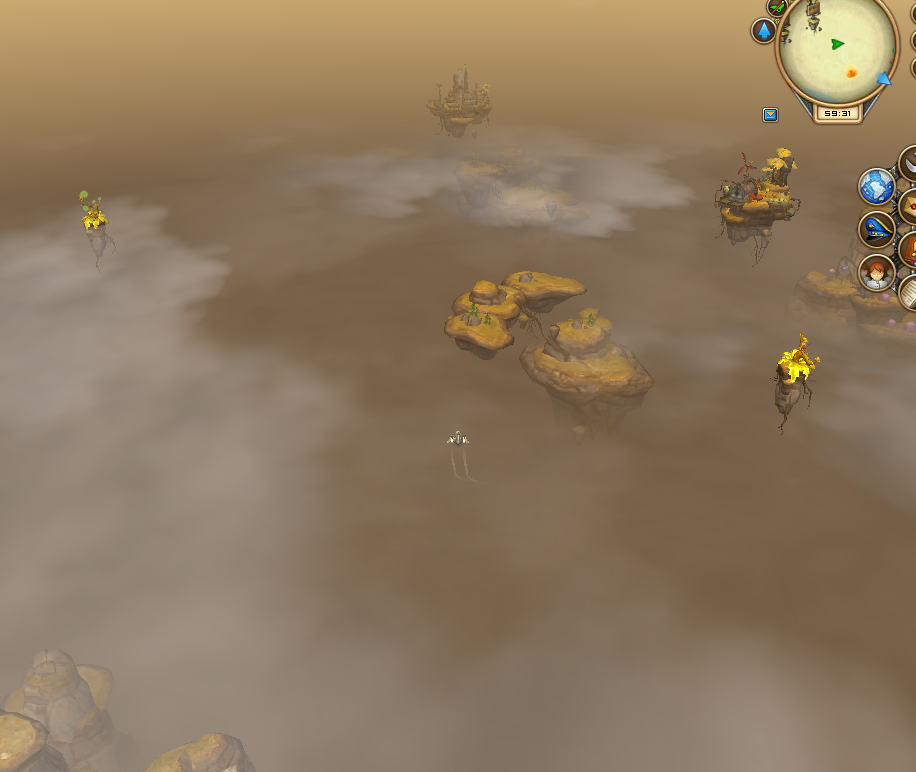dandelion-empty: (769, 331, 822, 430)
dandelion-full: (73, 185, 120, 264)
